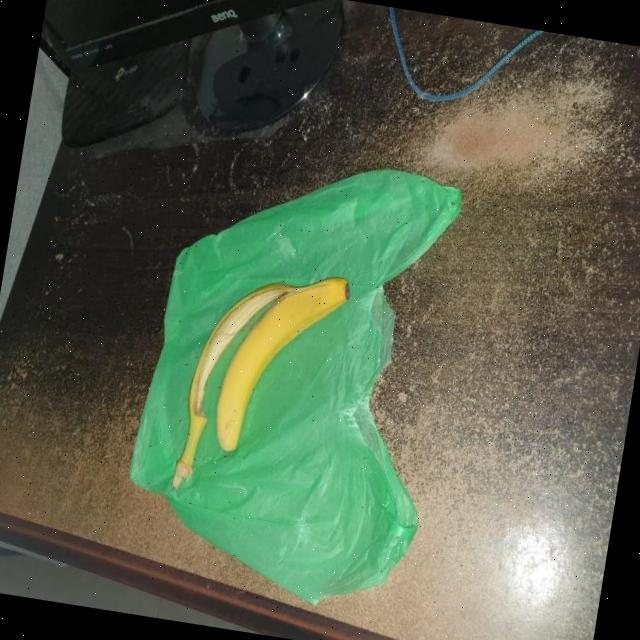banana-peel: (209, 260, 352, 467), (168, 268, 294, 502)
